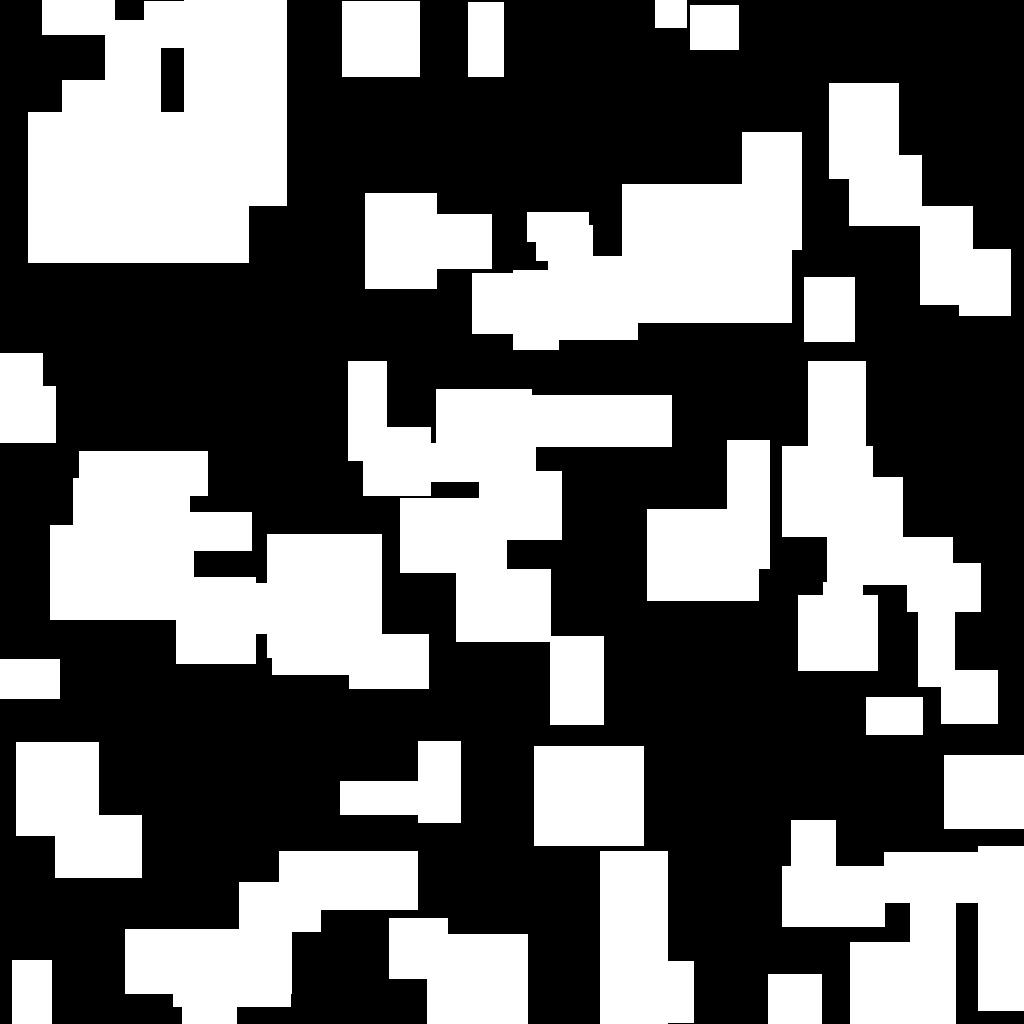wheat_head: (28, 112, 248, 262), (622, 184, 791, 322), (184, 0, 286, 205), (267, 534, 381, 657), (50, 525, 193, 619), (272, 554, 377, 674), (600, 851, 667, 1024), (534, 746, 643, 845), (125, 929, 291, 993), (647, 509, 758, 600), (105, 20, 160, 185), (427, 934, 527, 1024), (782, 446, 872, 536), (279, 851, 417, 909), (400, 498, 506, 572), (519, 395, 671, 446), (16, 742, 98, 835), (978, 846, 1024, 1010), (173, 942, 290, 1006), (548, 256, 637, 339), (742, 132, 801, 249), (176, 577, 255, 663), (456, 569, 550, 641), (365, 193, 436, 288), (829, 83, 898, 178), (782, 866, 884, 926), (378, 214, 491, 268), (798, 595, 877, 670), (827, 537, 952, 584), (944, 755, 1024, 828), (436, 389, 531, 450), (342, 1, 419, 76), (910, 898, 955, 1024), (79, 451, 207, 495), (479, 471, 561, 539), (73, 478, 172, 534), (850, 942, 916, 1024), (727, 440, 769, 568), (55, 815, 141, 877), (808, 361, 865, 453), (920, 206, 972, 304), (849, 155, 921, 225), (120, 512, 251, 550), (884, 852, 978, 902), (550, 636, 603, 724), (415, 443, 535, 481), (363, 427, 430, 495), (81, 481, 189, 522), (349, 634, 428, 688), (62, 80, 121, 151), (918, 573, 954, 686), (239, 882, 320, 931), (348, 361, 386, 460), (220, 583, 292, 633), (513, 270, 558, 349), (907, 563, 980, 611), (389, 918, 447, 978), (418, 741, 460, 822), (959, 249, 1010, 315), (340, 781, 439, 814), (804, 277, 854, 341), (0, 386, 55, 442), (182, 969, 236, 1024), (941, 670, 997, 723), (645, 961, 693, 1022), (791, 820, 835, 884), (472, 273, 518, 333), (864, 477, 902, 549), (768, 974, 821, 1024), (468, 2, 503, 76), (12, 960, 51, 1023), (42, 0, 114, 34), (144, 1, 196, 47), (0, 659, 59, 698), (690, 5, 738, 49), (866, 697, 922, 734), (536, 225, 592, 260), (527, 212, 588, 241), (823, 582, 862, 622), (0, 353, 42, 387), (655, 0, 686, 27)
